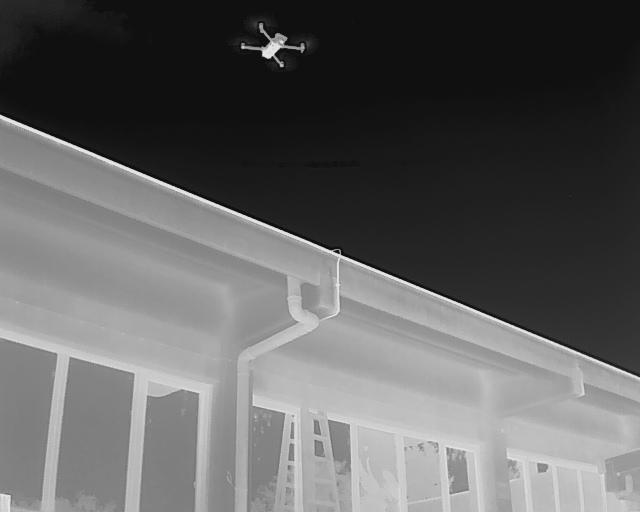drone: (222, 15, 318, 79)
